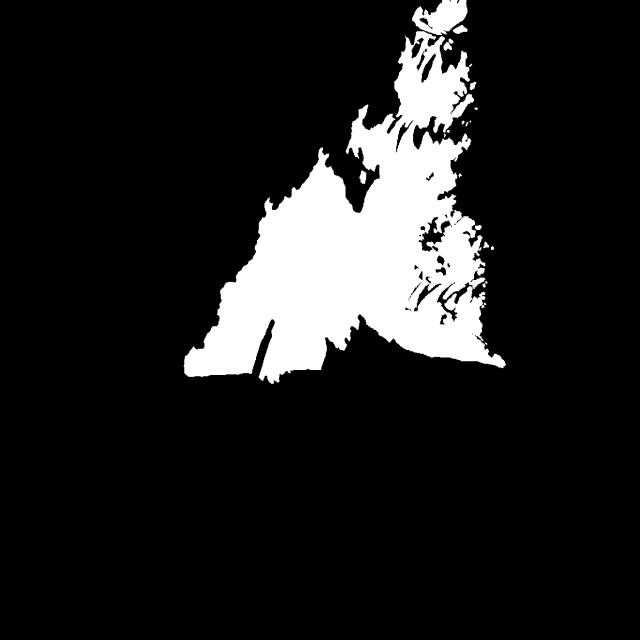fire: (148, 11, 551, 398)
